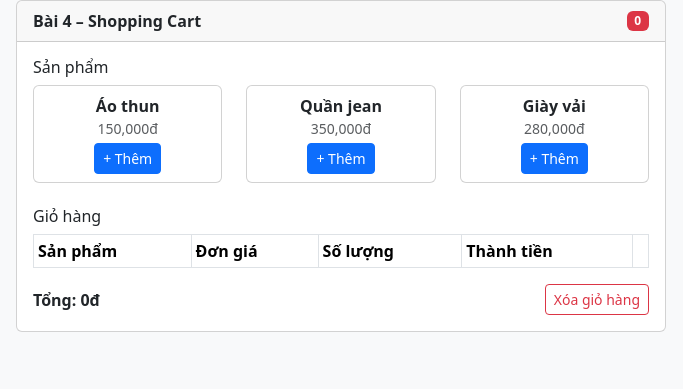
it: Bài 4 – Shopping Cart › ✅ Task 2+6 – ADD_ITEM › thêm cùng sản phẩm 2 lần → qty = 2, item-count = 2
The width and height of the screenshot is (683, 389).
Click the button with test id "btn-add-1": (128, 159) [94, 143, 161, 174]
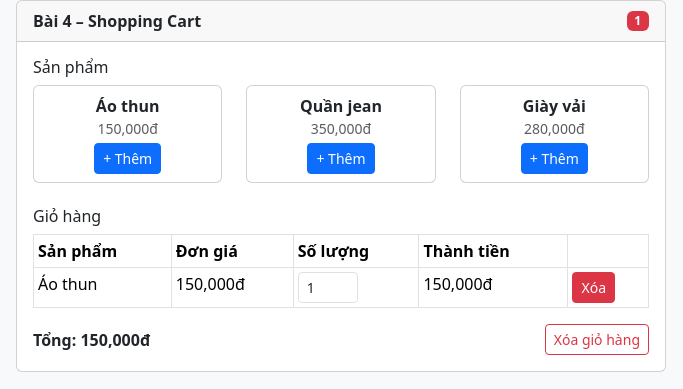
Click the button with test id "btn-add-1": (128, 159) [94, 143, 161, 174]
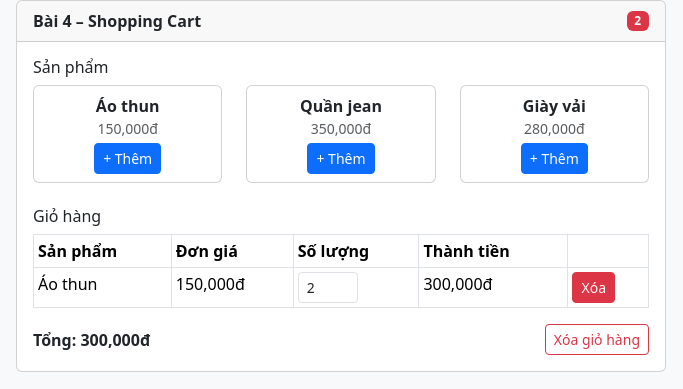
expect the text with test id "item-count" reads "2": met, box [634, 12, 641, 29]
